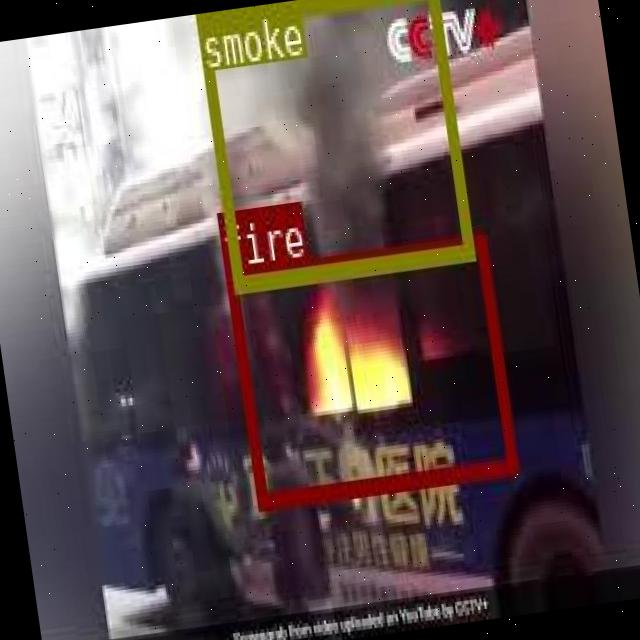fire: (224, 234, 516, 506)
smoke: (194, 0, 473, 292)
